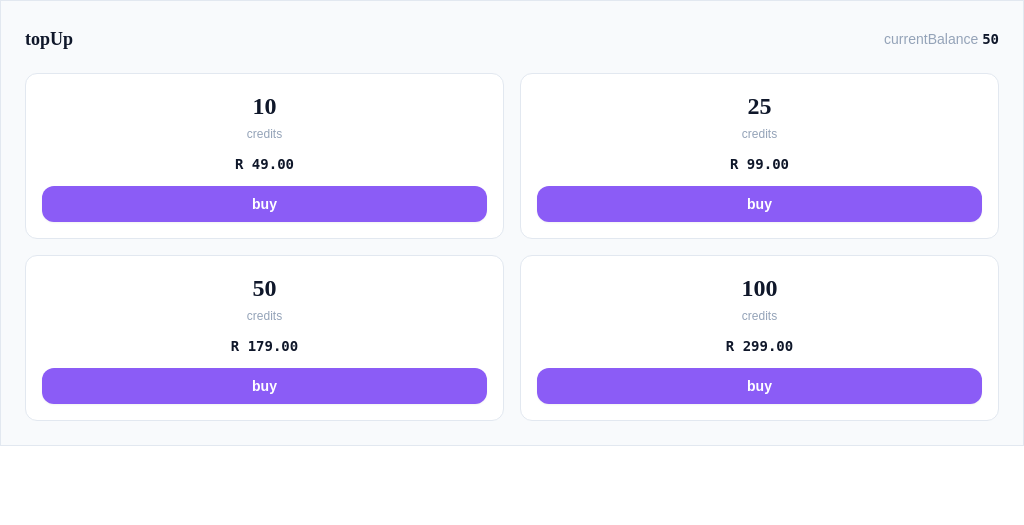
Test: TopUpWidget › shows error message when checkout fails
Click the button with test id "topup-buy-10" at (264, 204), box [42,186,487,222]
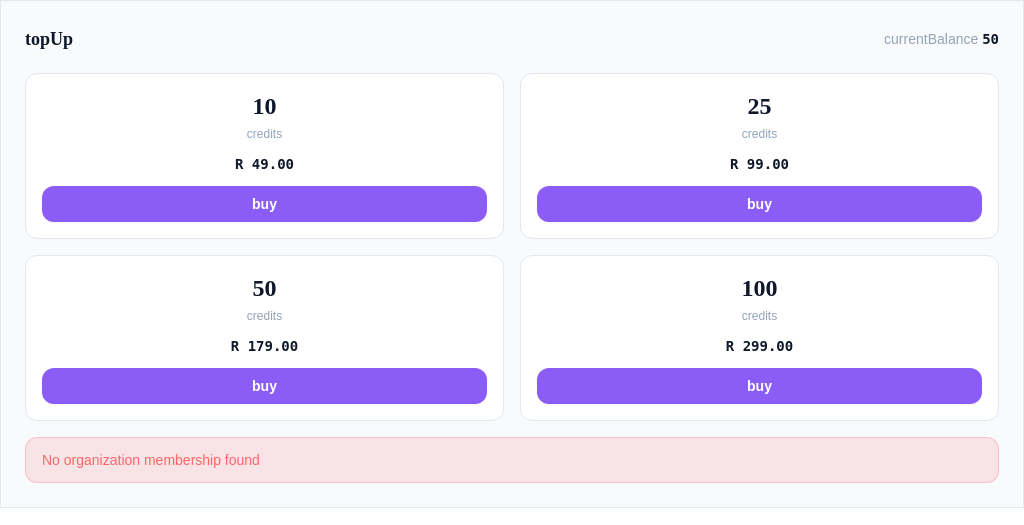
Now the message "No organization membership found" is shown, box [25,437,999,483]
Now the message with test id "topup-error" reads "No organization membership found", box [42,452,260,468]
